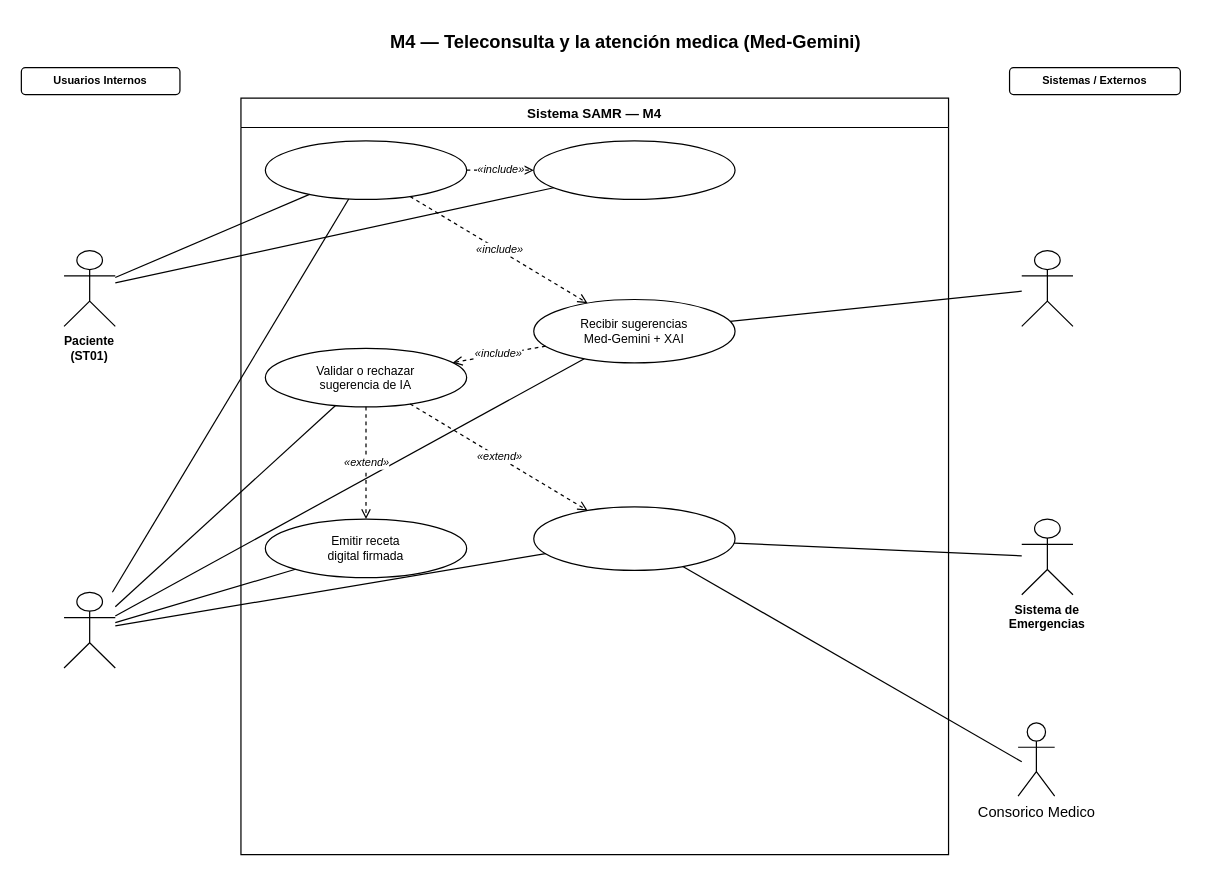
The diagram is 1226 pixels wide and 876 high, and some of its shapes have lost their labels. Here are the shapes that lost their labels. From the top down, the centre of each, then its label:
pixel 365 169: Iniciar teleconsulta
pixel 634 169: Acceder a historial clínico completo
pixel 1047 287: Med-Gemini (Sistema)
pixel 634 538: Derivar a emergencia presencial
pixel 89 629: Personal Médico (ST02)
